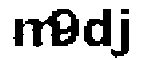9: (53, 9, 79, 52)
d: (83, 5, 113, 49)
j: (112, 5, 133, 60)
m: (7, 18, 59, 49)
